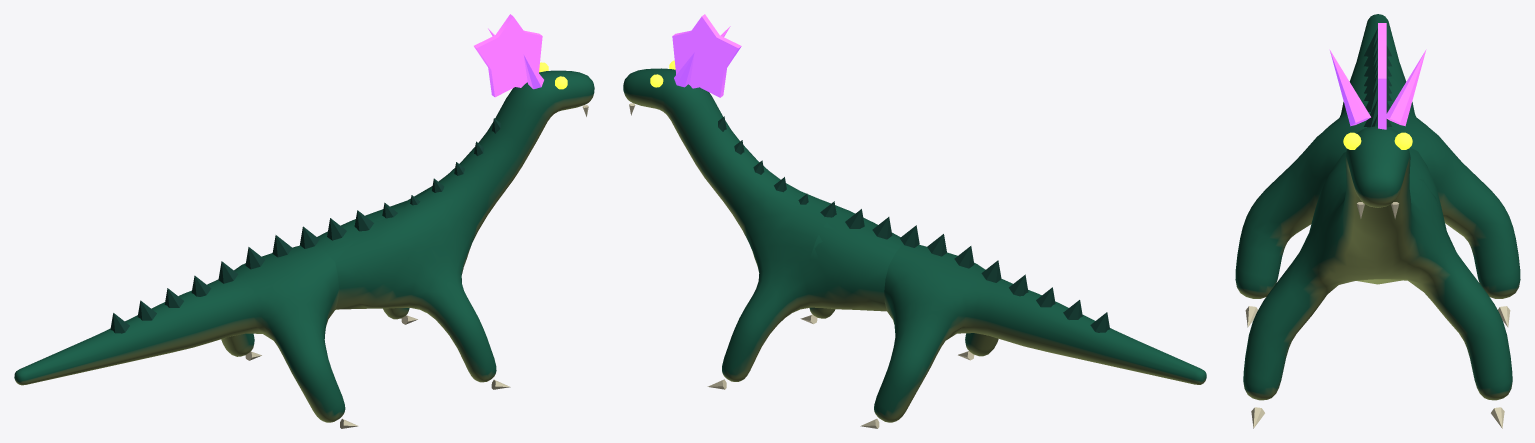
The model's file is ninki-nanka.glb.
3 views of the same model, side by side, from view 1: azimuth 30°, elevation 25°; view 2: azimuth 150°, elevation 25°; view 3: azimuth 270°, elevation 25° (orthographic). The views are drawn at different scales.
Visible parts, largest first — view 1: ninki-nanka.001; view 2: ninki-nanka.001; view 3: ninki-nanka.001.
Boxes of the visible parts, x1,y1,x2,y2 form: ninki-nanka.001: (14, 14, 594, 428); ninki-nanka.001: (623, 14, 1206, 428); ninki-nanka.001: (1235, 14, 1520, 428).
Size of the model in its own units: 3.14 by 1.7 by 1.
